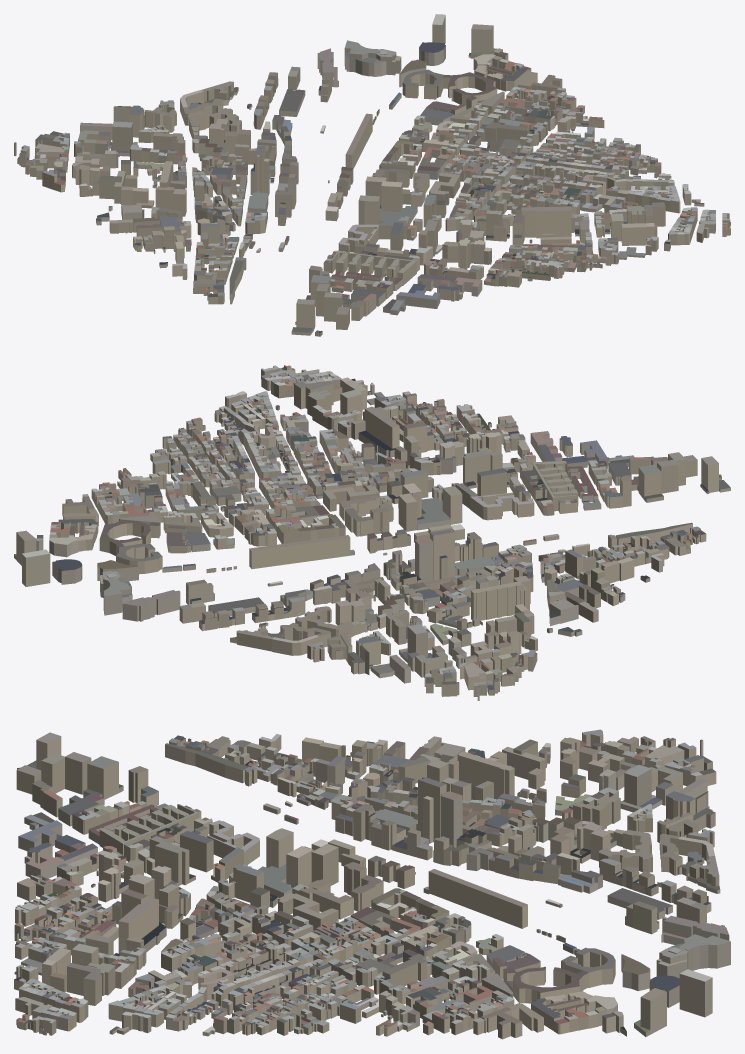
3 views of the same model, one above another, from view 1: azimuth 30°, elevation 25°; view 2: azimuth 150°, elevation 25°; view 3: azimuth 270°, elevation 25° (orthographic). The views are drawn at different scales.
Parts seen in each view (by area): view 1: tuile; view 2: tuile; view 3: tuile.
Part boxes in pixels (left/top/right/bottom): tuile: left=14, top=14, right=730, bottom=336; tuile: left=14, top=365, right=730, bottom=700; tuile: left=14, top=729, right=730, bottom=1039.
Bounding box in the file's own units: 1021 × 101 × 1029.
